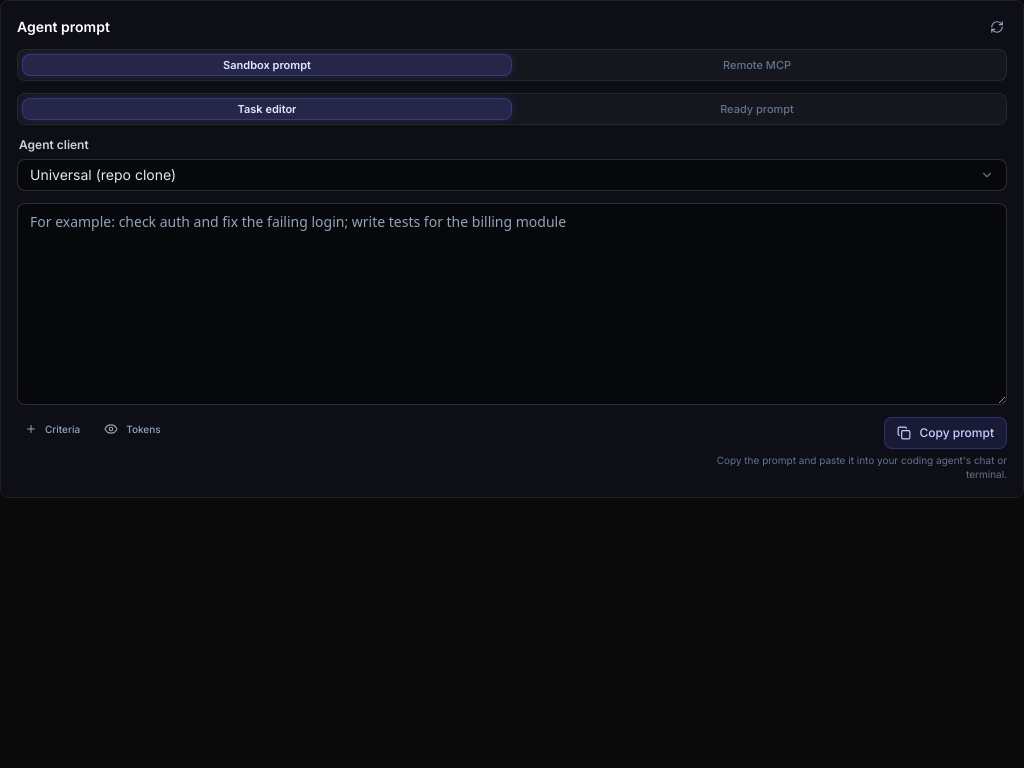
it: DevboxPrompt copy flow › warns about a stale copy after tokens were rotated
This screenshot has width=1024, height=768.
Click the button with test id "devbox-prompt-copy" at (946, 433), box [884,417,1007,449]
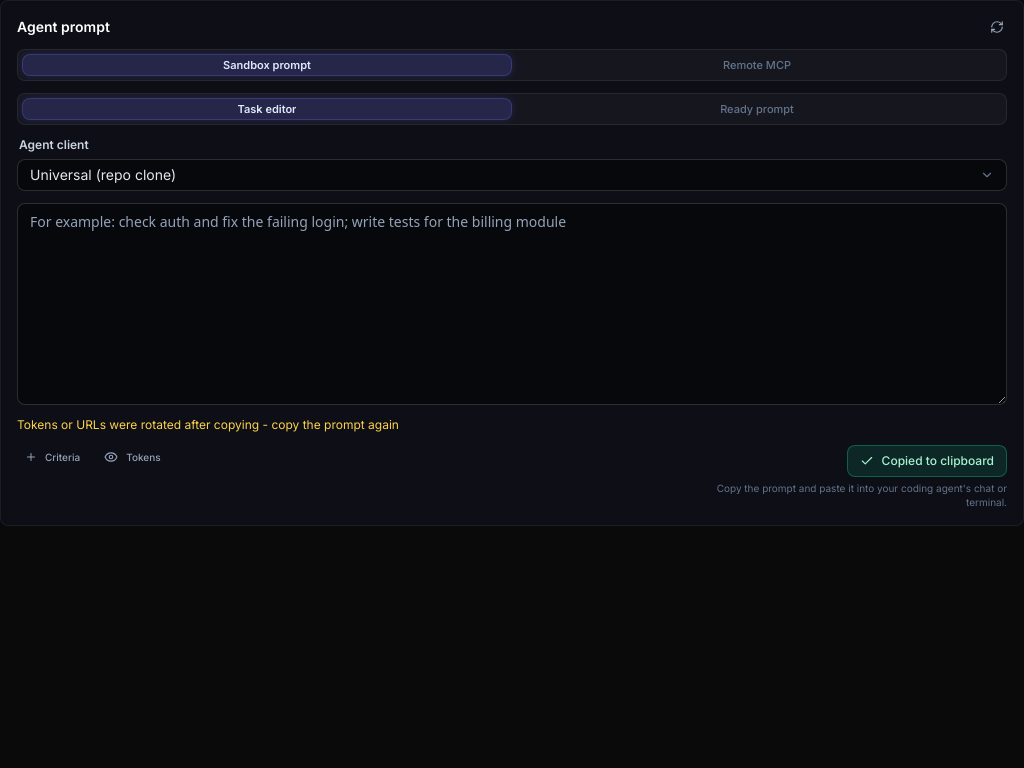
Expected: the text with test id "devbox-prompt-stale" reads "Tokens or URLs were rotated after copying - copy the prompt again", [17,417,399,432]
